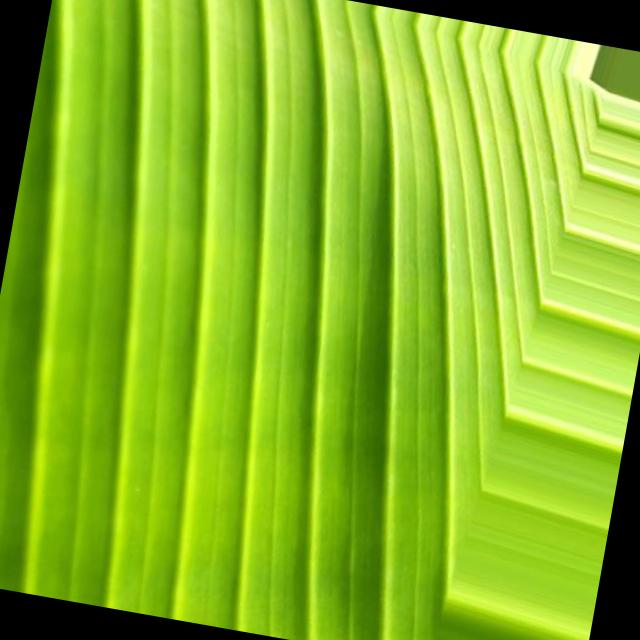Banana_Healthy: (41, 24, 518, 626)
